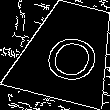O_N: (34, 21, 102, 82)
